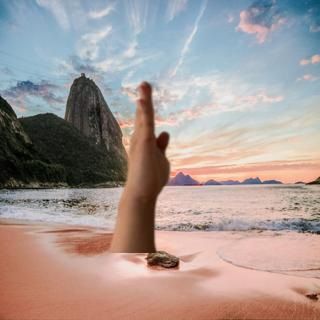RIGHT: (118, 77, 182, 208)
